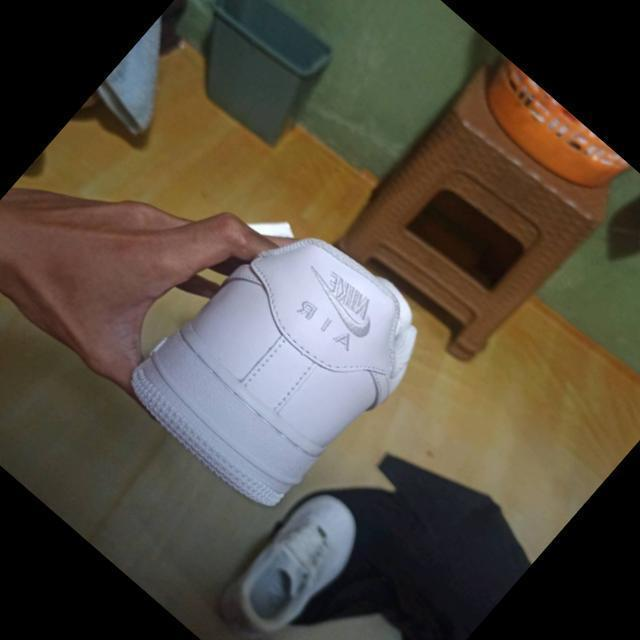nike fake air force: (110, 183, 452, 528)
